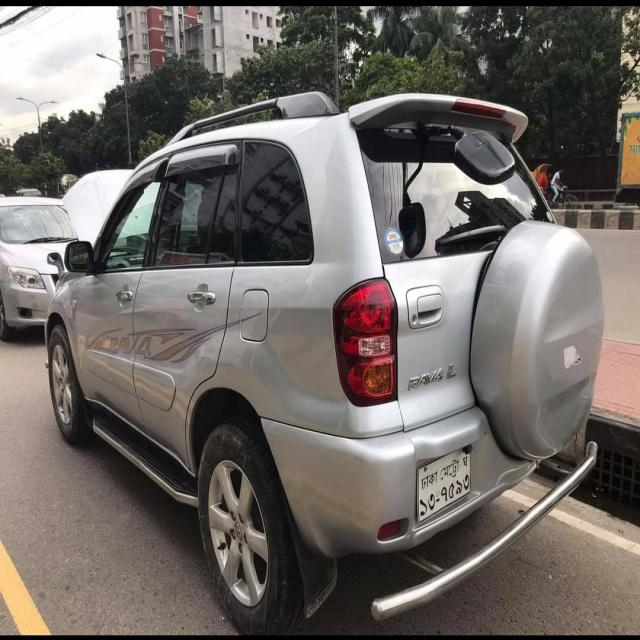silver: (43, 87, 612, 633), (0, 193, 84, 334)
